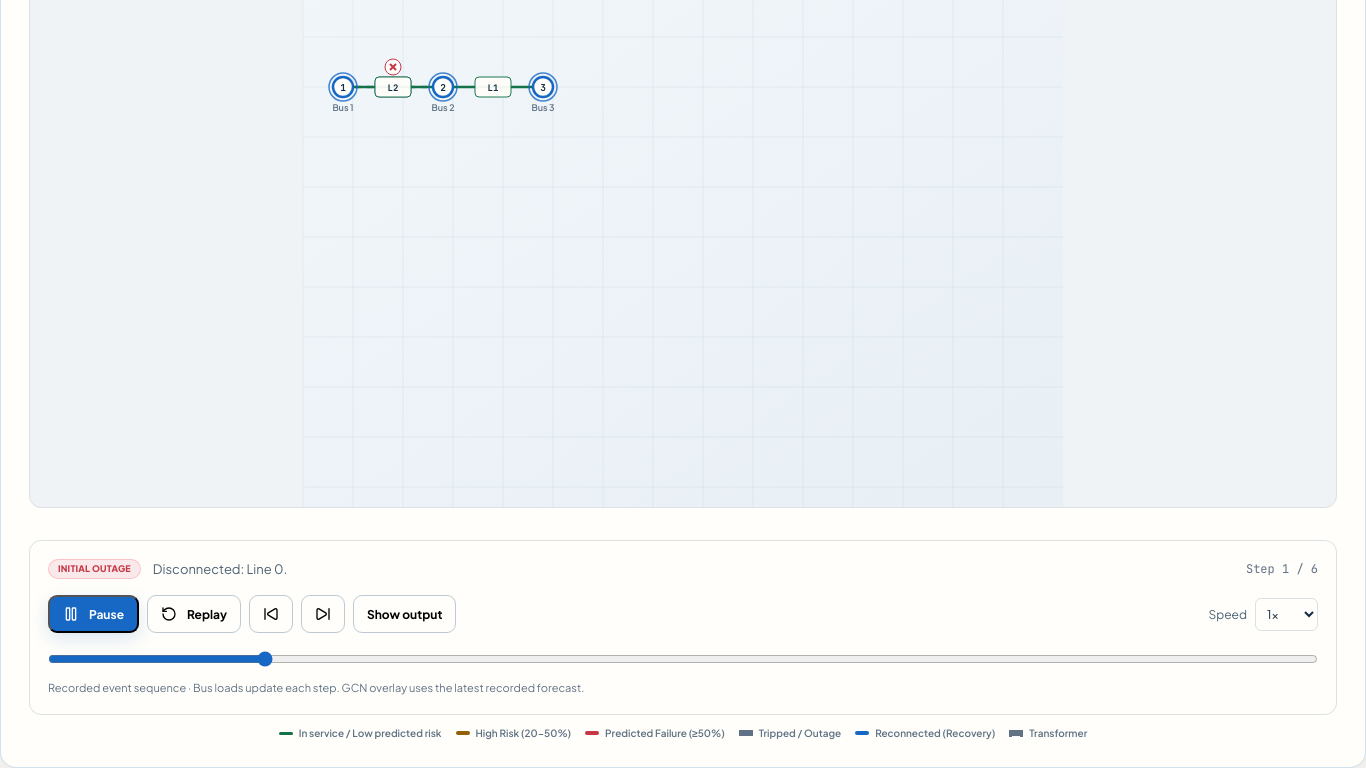
Test: automatically constructs the output from the base graph and can pause and replay
(page scrolled)
Expected: the button "Line 0: FAILED" is shown, top-left (388, 82), bottom-right (398, 94)
Click the button "Pause". click: (94, 614)
box: top-left (48, 595), bottom-right (139, 633)
Wait 5000 ms
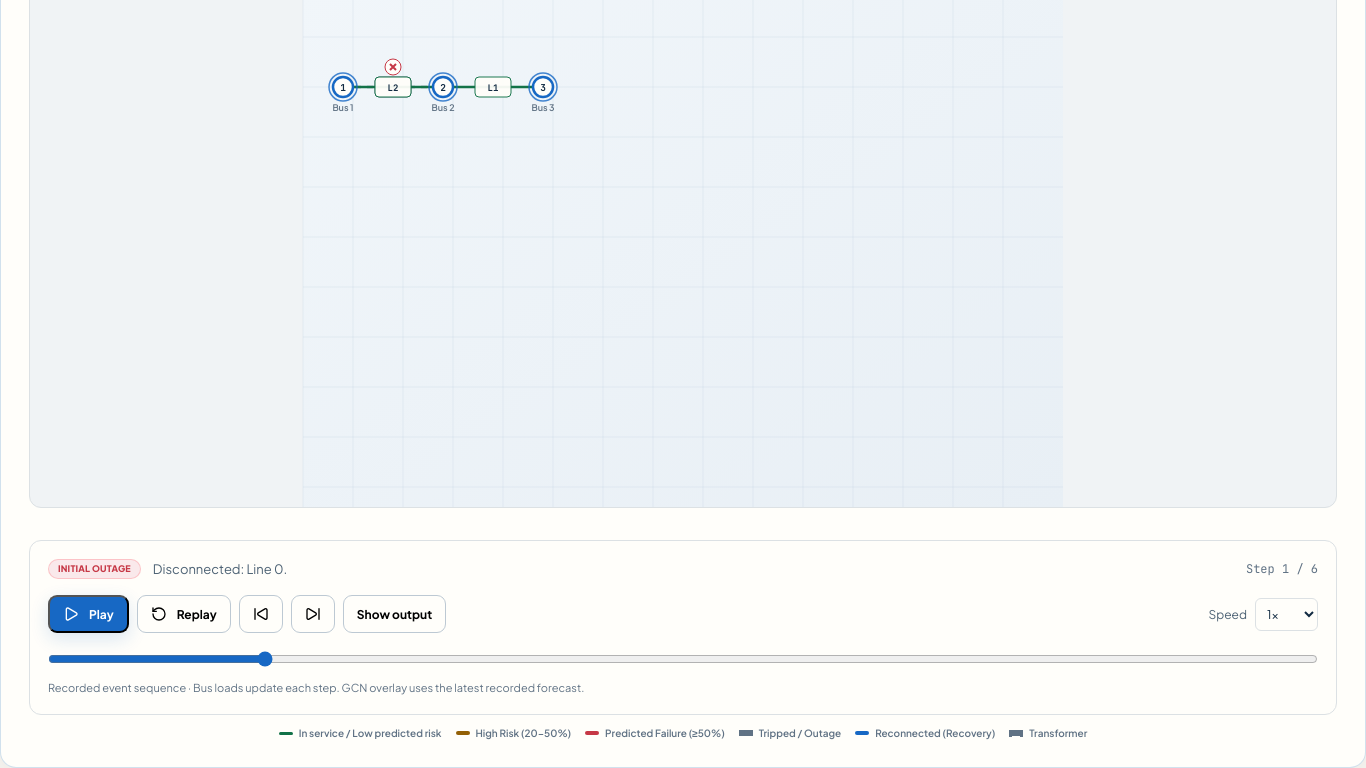
Expected: the slider named "Playback step" holds "1", top-left (48, 651), bottom-right (1318, 667)
Click the button "Replay". click: (184, 614)
box: top-left (137, 595), bottom-right (231, 633)
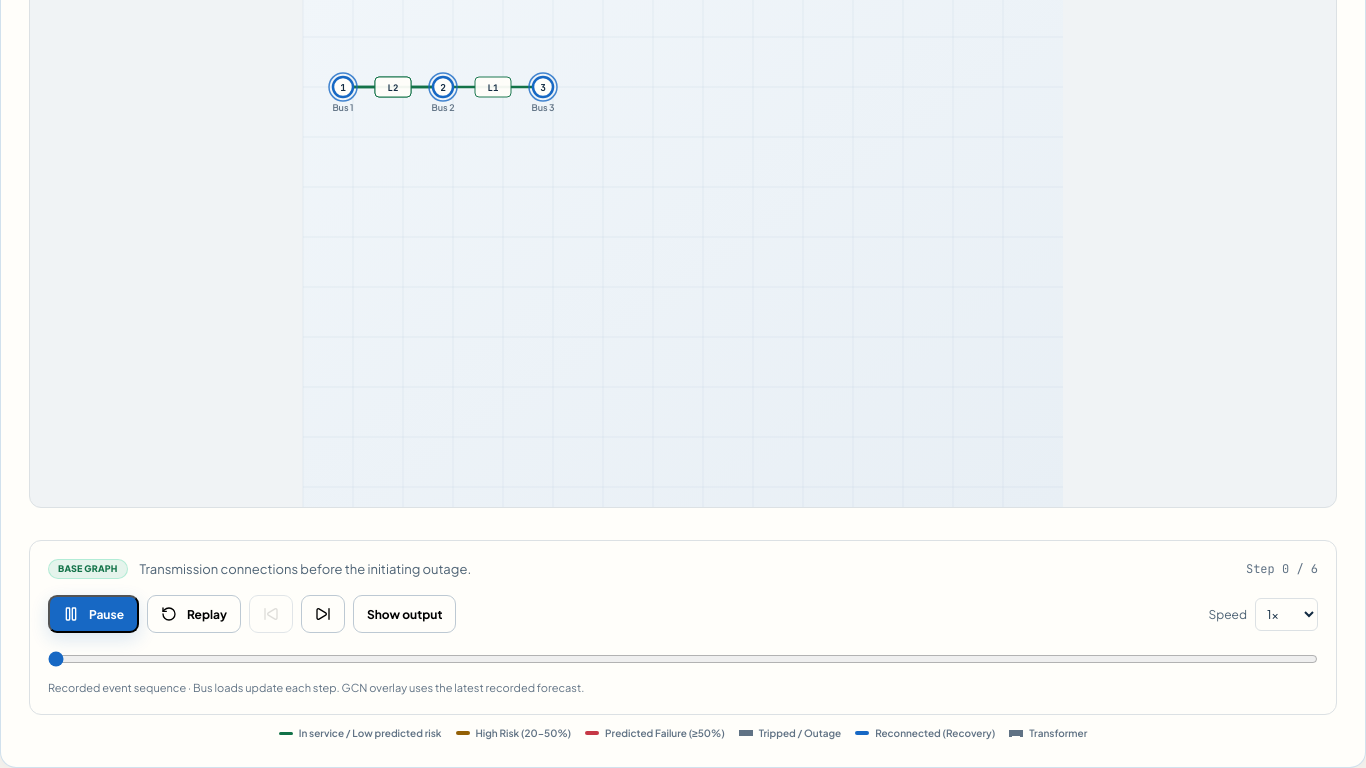
Expected: the slider named "Playback step" holds "0", top-left (48, 651), bottom-right (1318, 667)
